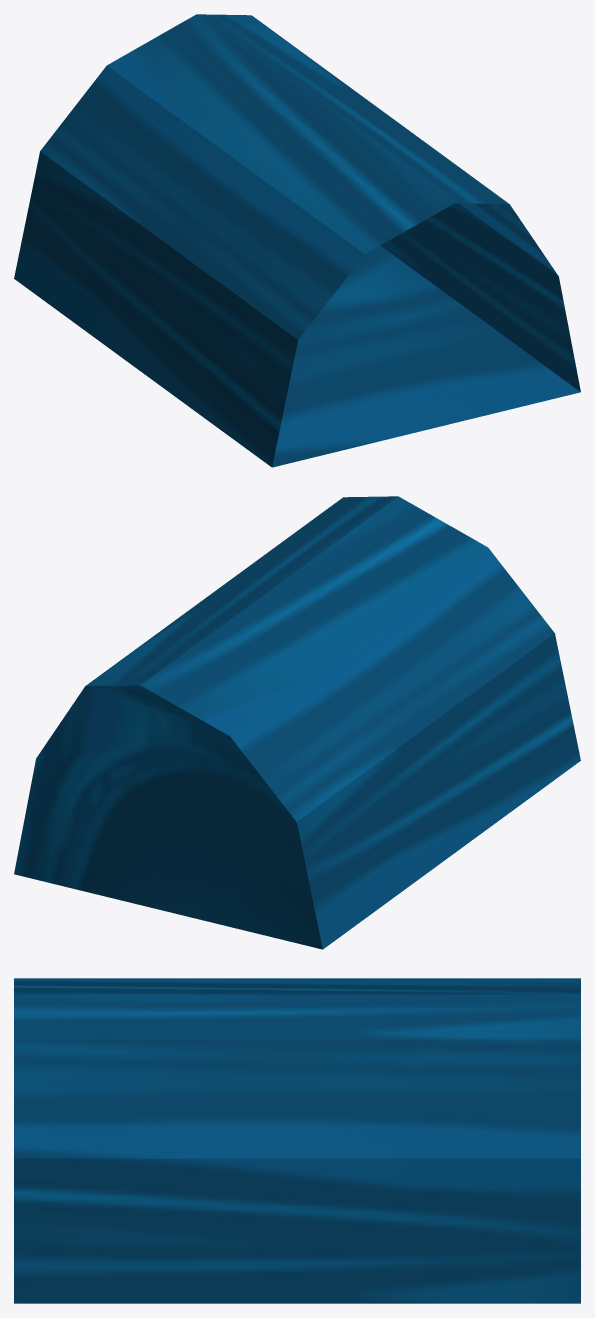
Rendered from Chapter3Scene1Model17.FBX.
3 renders of one model, top to bottom at view 1: azimuth 30°, elevation 25°; view 2: azimuth 150°, elevation 25°; view 3: azimuth 270°, elevation 25°, orthographic. The views are drawn at different scales.
Parts seen in each view (by area): view 1: Chapter3Scene1Model17; view 2: Chapter3Scene1Model17; view 3: Chapter3Scene1Model17.
Boxes of the visible parts, x1,y1,x2,y2 form: Chapter3Scene1Model17: (14, 14, 580, 467); Chapter3Scene1Model17: (14, 496, 580, 949); Chapter3Scene1Model17: (14, 978, 580, 1303).
Size of the model in its own units: 53.83 by 77.9 by 36.61.
